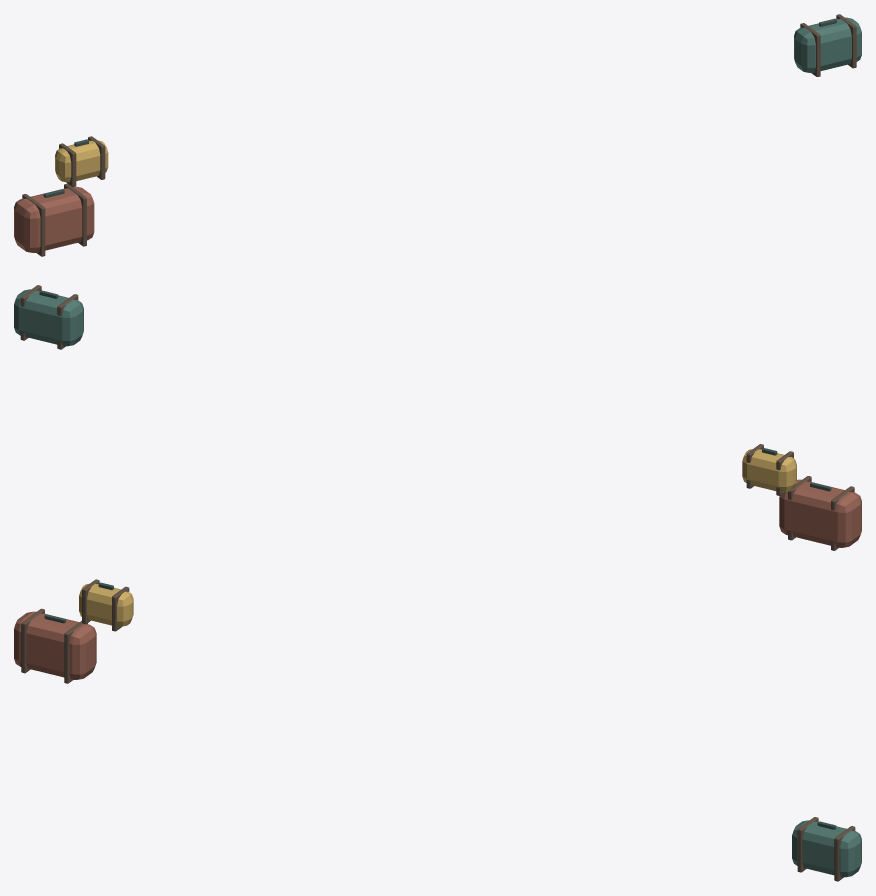
File: SM_Luggage.fbx
3 views of the same model, one above another, from view 1: azimuth 30°, elevation 25°; view 2: azimuth 150°, elevation 25°; view 3: azimuth 330°, elevation 25° (orthographic). The views are drawn at different scales.
Parts seen in each view (by area): view 1: SM_Luggage; view 2: SM_Luggage; view 3: SM_Luggage.
Boxes of the visible parts, <box> form: SM_Luggage: <box>14,14,861,256</box>; SM_Luggage: <box>14,285,861,550</box>; SM_Luggage: <box>14,579,861,881</box>.
Size of the model in its own units: 857 by 67.94 by 84.44.
